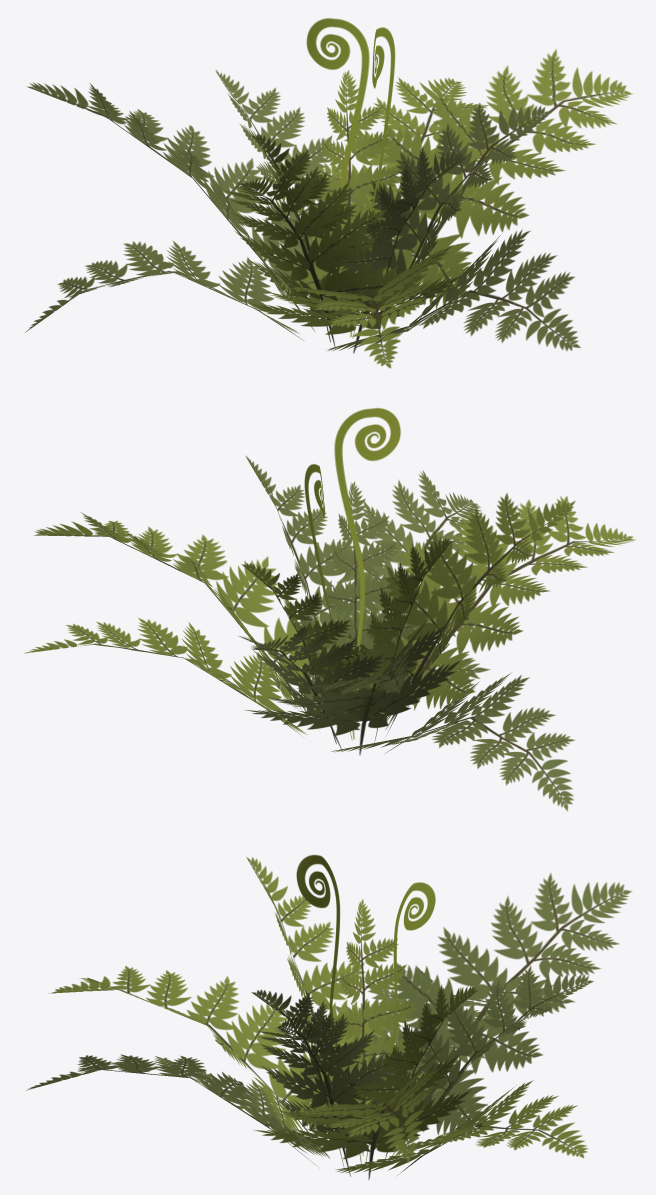
File: Fern_1b.glb
3 views of the same model, one above another, from view 1: azimuth 30°, elevation 25°; view 2: azimuth 150°, elevation 25°; view 3: azimuth 270°, elevation 25° (orthographic). The views are drawn at different scales.
Parts seen in each view (by area): view 1: Fern_1b; view 2: Fern_1b; view 3: Fern_1b.
Part boxes in pixels (bbox=[...]): Fern_1b: bbox=[25, 18, 632, 368]; Fern_1b: bbox=[24, 408, 635, 811]; Fern_1b: bbox=[26, 854, 632, 1179].
Bounding box in the file's own units: 2.18 × 1.15 × 2.06.
Materials: 1 (1 with a texture image).
